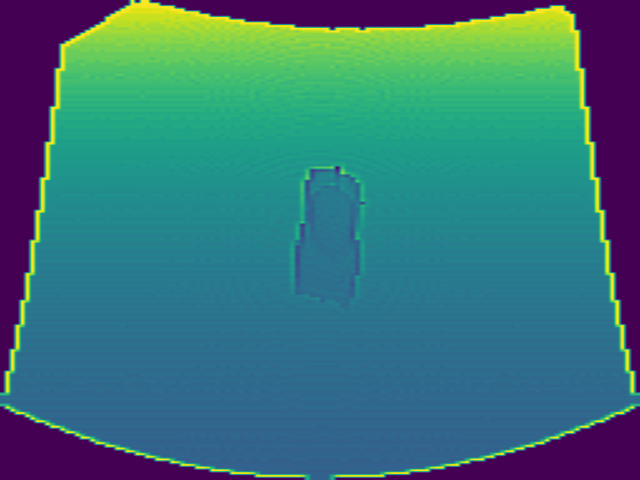car_0027: (287, 163, 368, 311)
